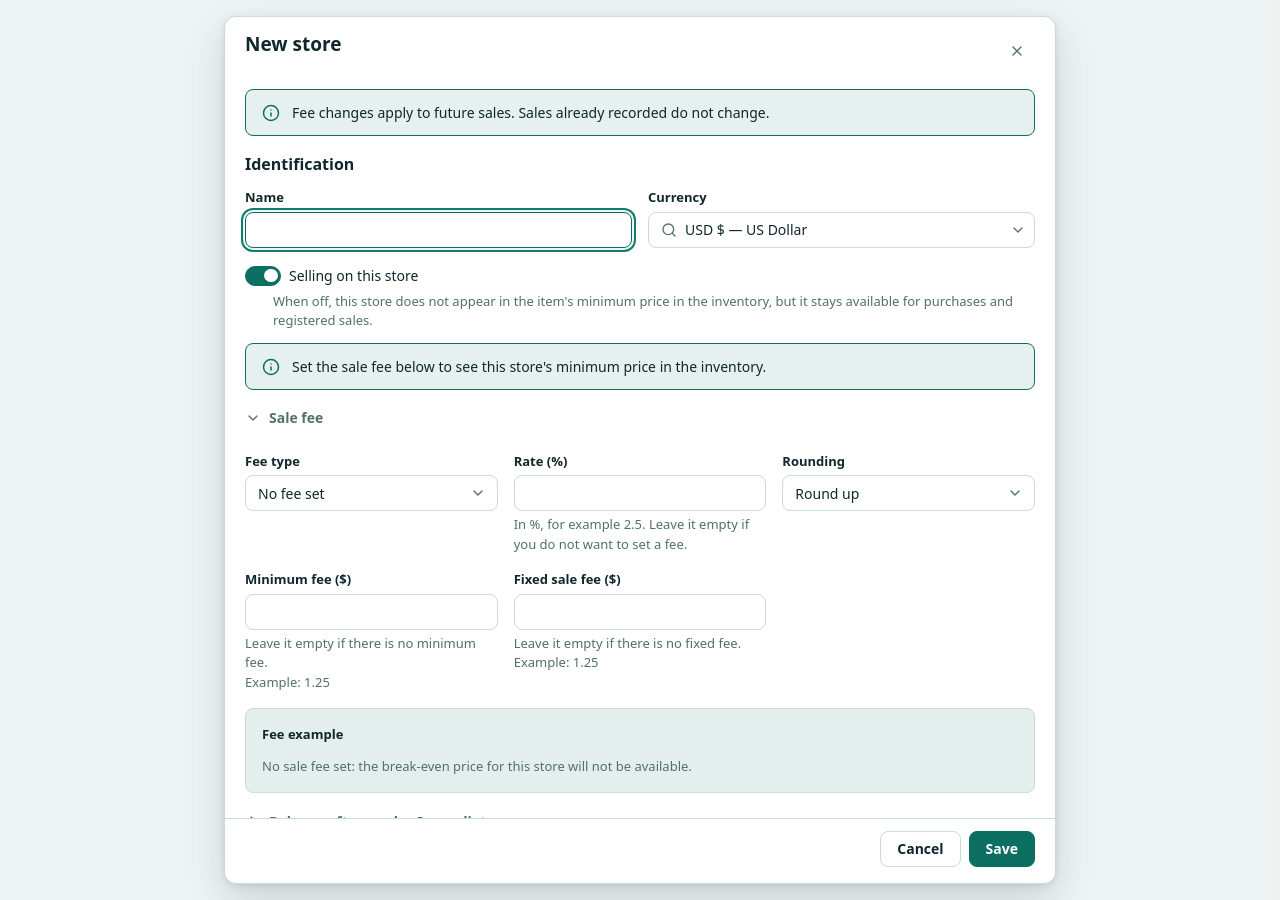
it: salvar › erro do servidor vai para o campo (nome repetido)
Type "CSFloat" into the field labelled "Name" at (438,230), box [258, 212, 619, 246]
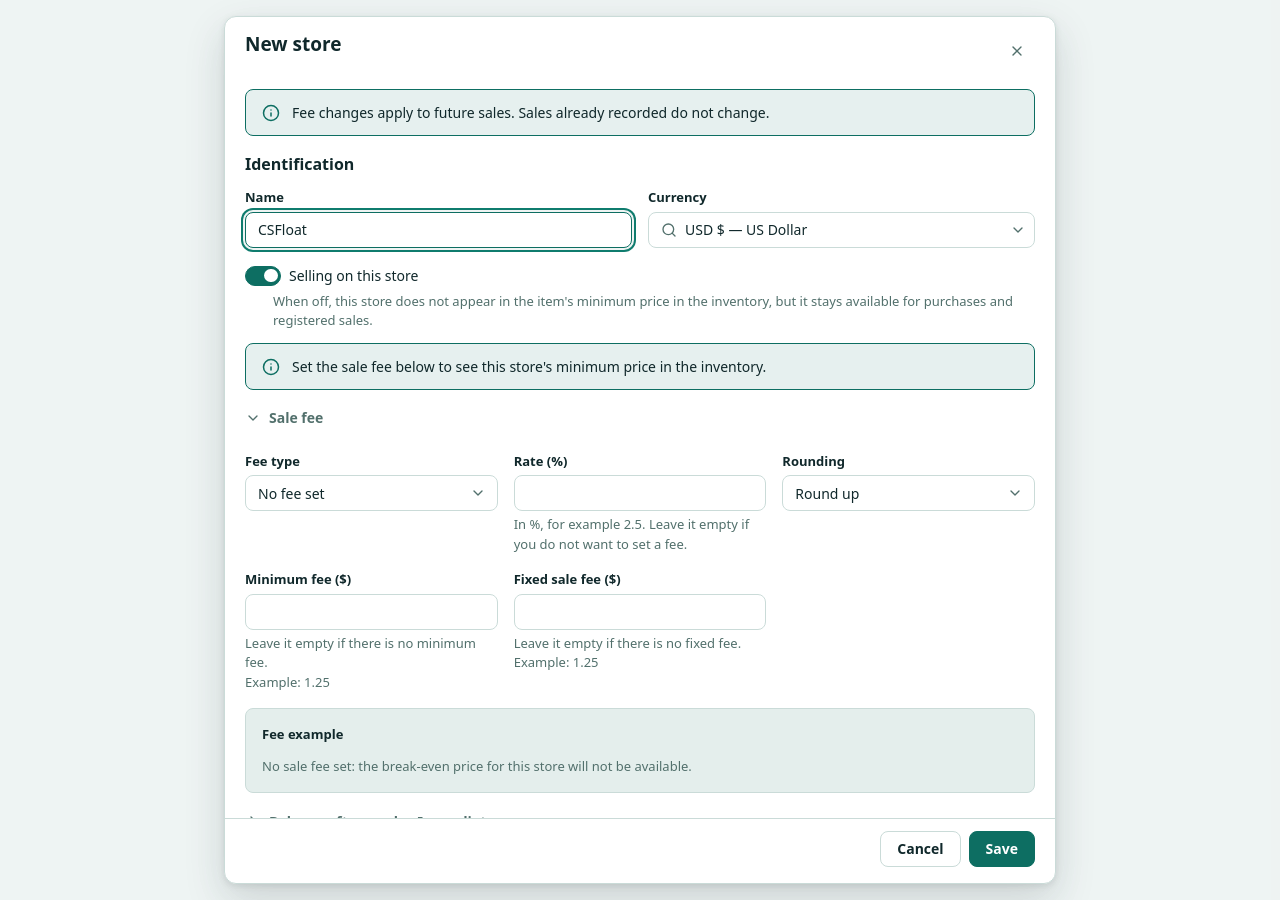
Click the button "Save" at (1002,849), box [969, 831, 1035, 867]
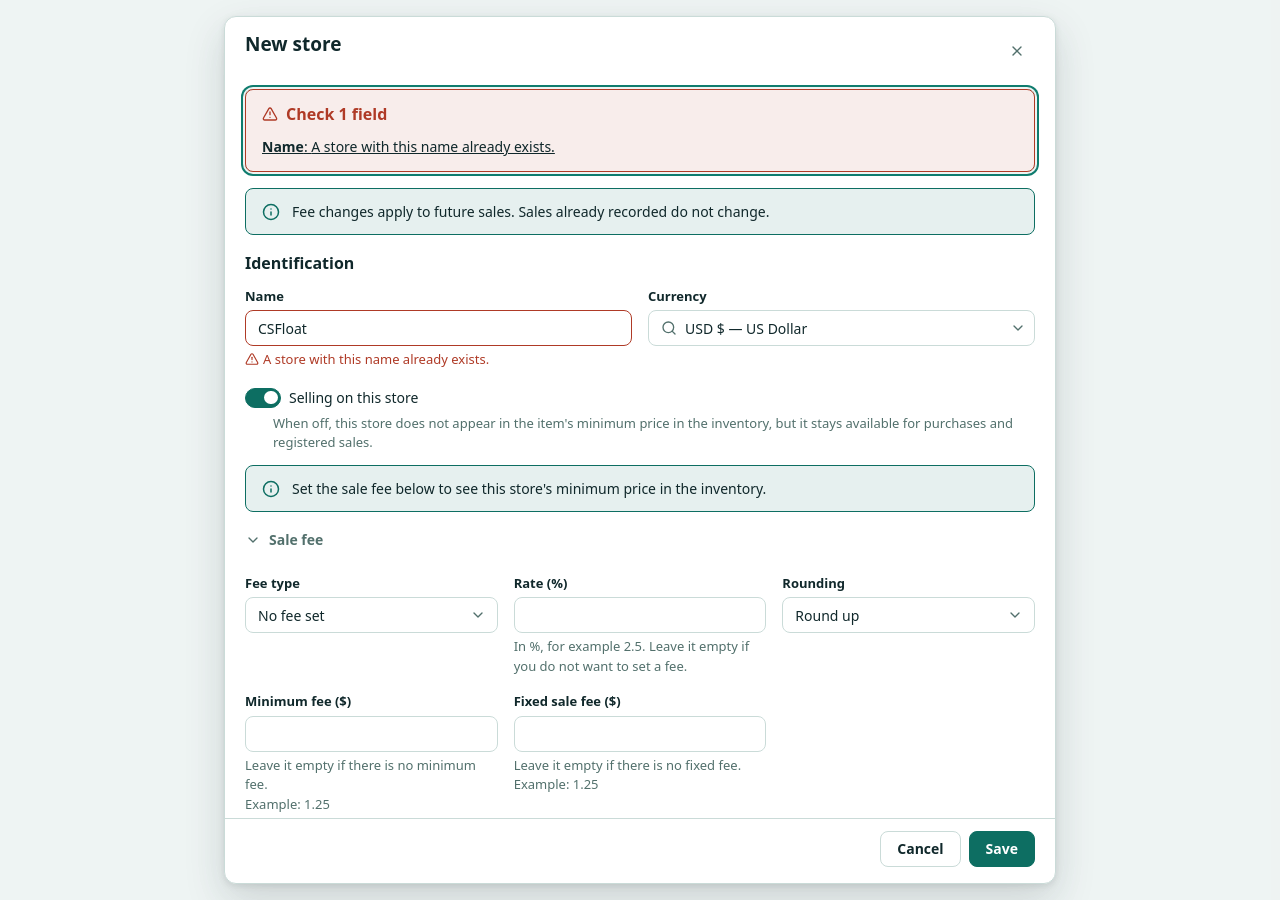
Now the message "Check 1 field Name: A store with this name already exists." is shown, box [245, 89, 1035, 172]
